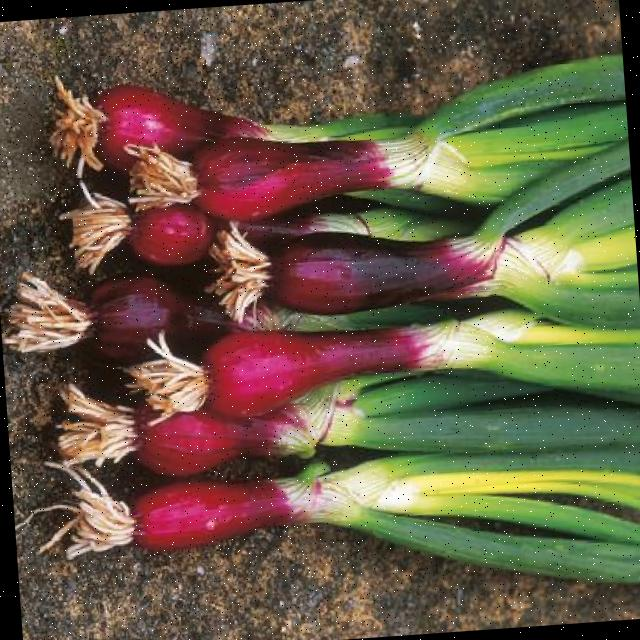Onion: (202, 328, 425, 417), (270, 234, 492, 315), (188, 139, 391, 221), (90, 84, 264, 172), (133, 404, 316, 475), (87, 275, 228, 363), (133, 481, 291, 551), (126, 204, 212, 265)
